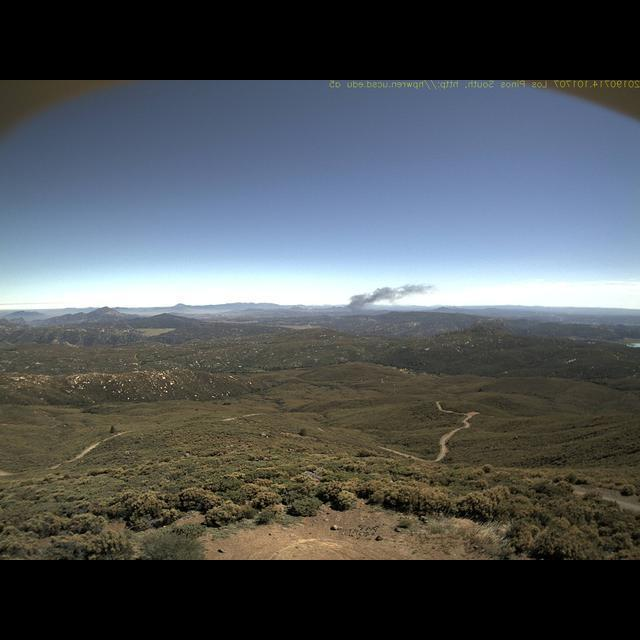Smoke: (347, 273, 441, 311)
